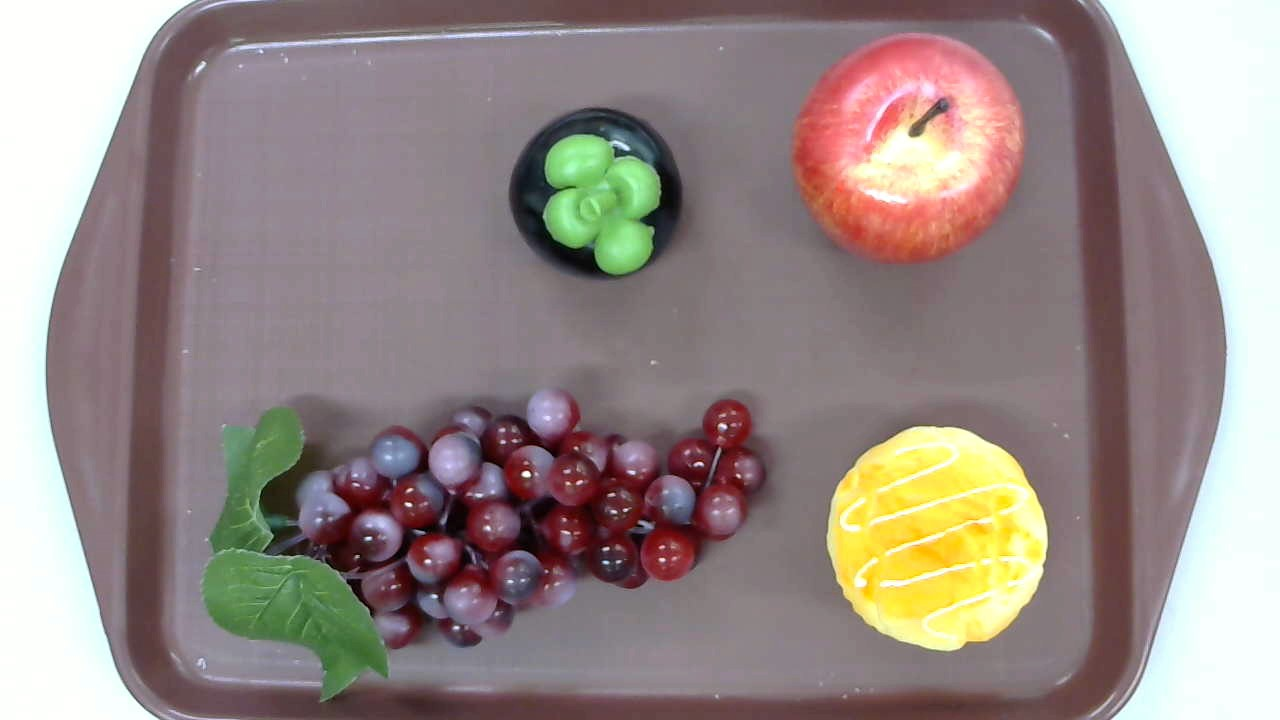cupcake: (826, 425, 1047, 653)
grape: (200, 387, 766, 702)
mangosteen: (508, 108, 684, 281)
red apple: (792, 31, 1026, 267)
